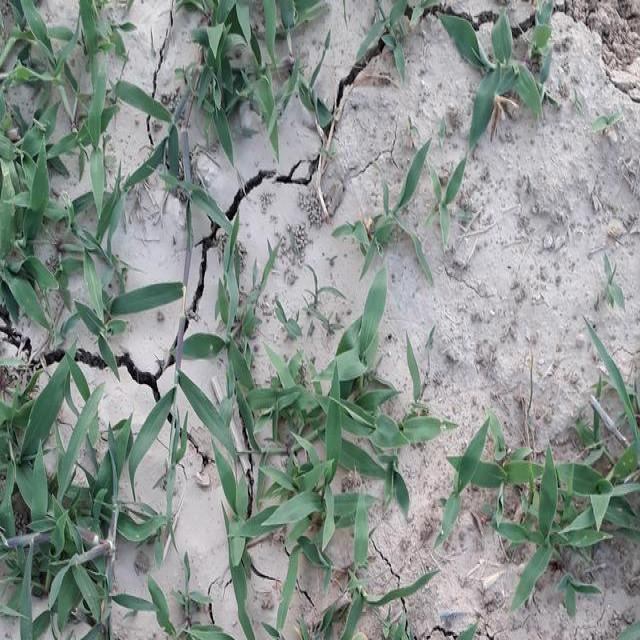weed: (203, 287, 424, 640), (0, 0, 170, 321), (0, 364, 163, 637), (459, 377, 640, 608), (174, 0, 338, 147), (445, 0, 572, 131)
